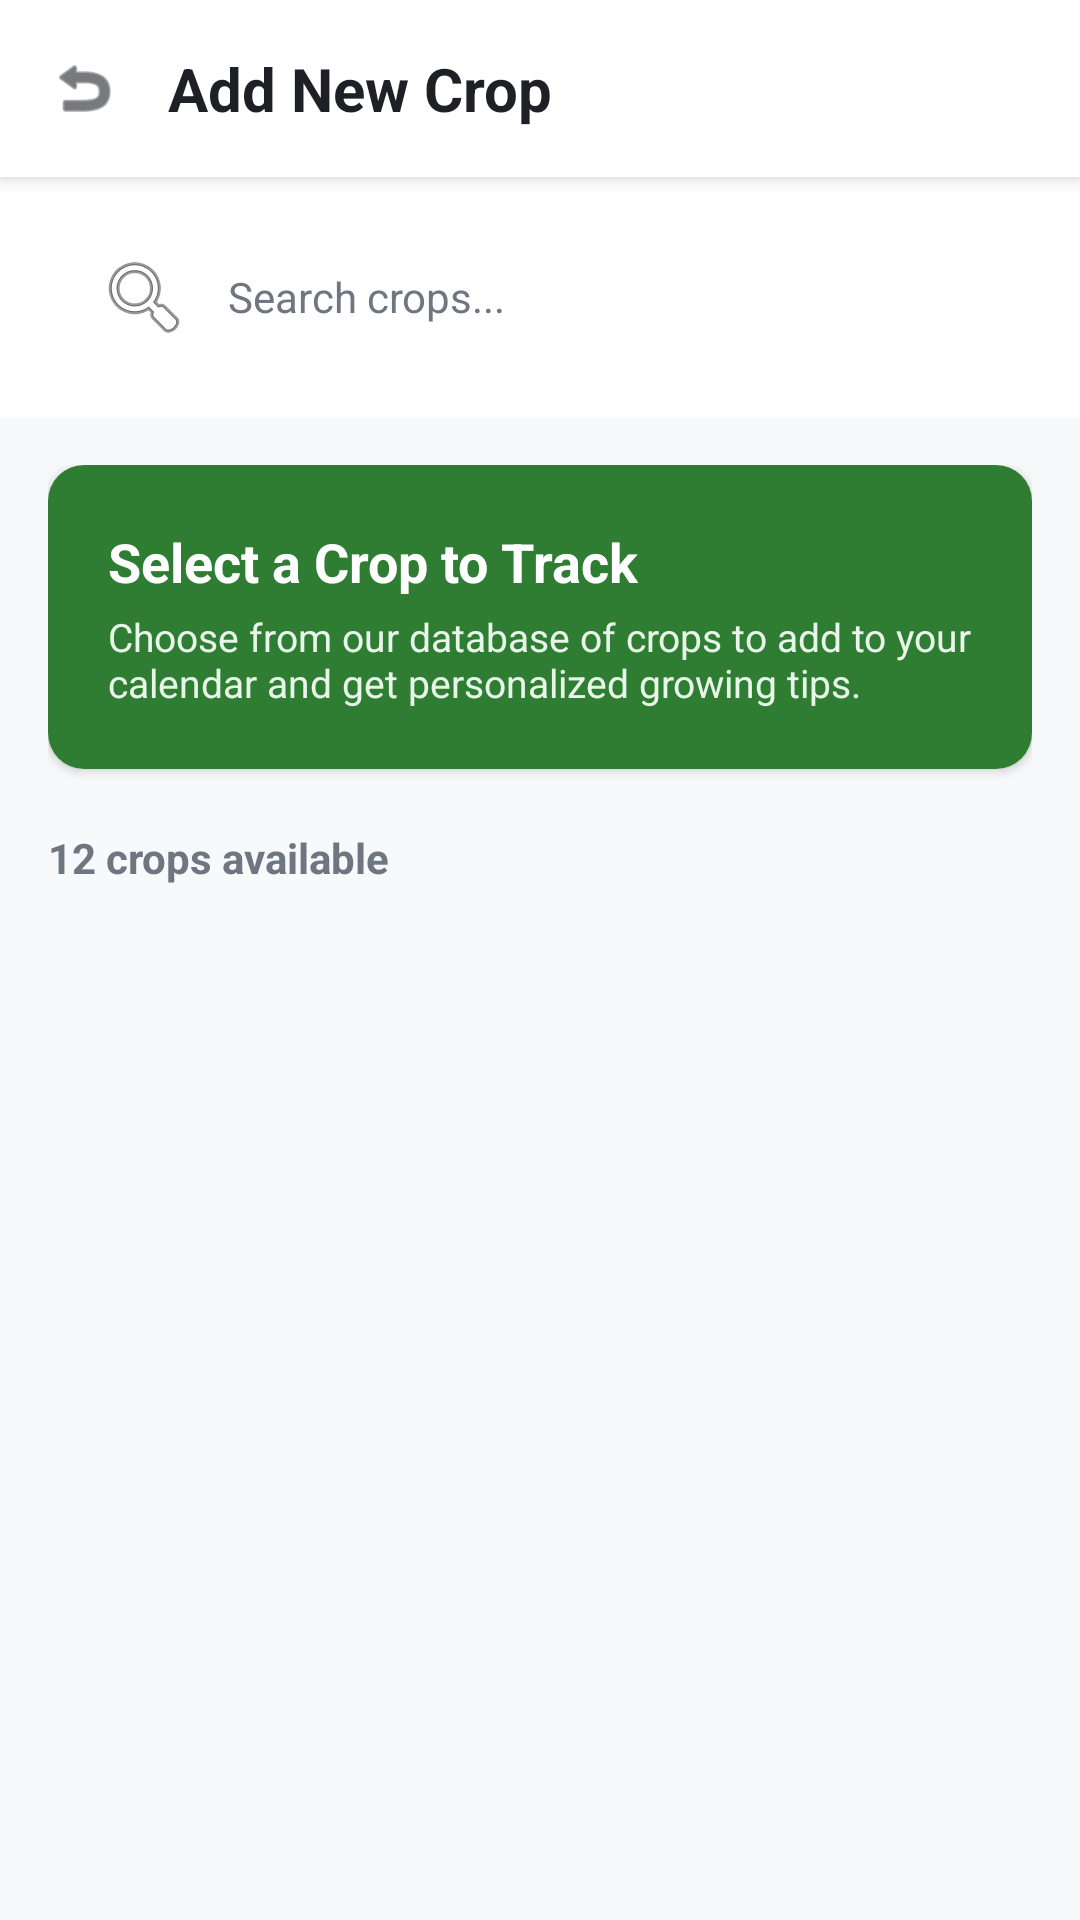

Named icons in this screenshot (1080px x 1920px) and their bounding boxes, (x1, y1, x2, y2):
revert: (59, 65, 111, 112)
